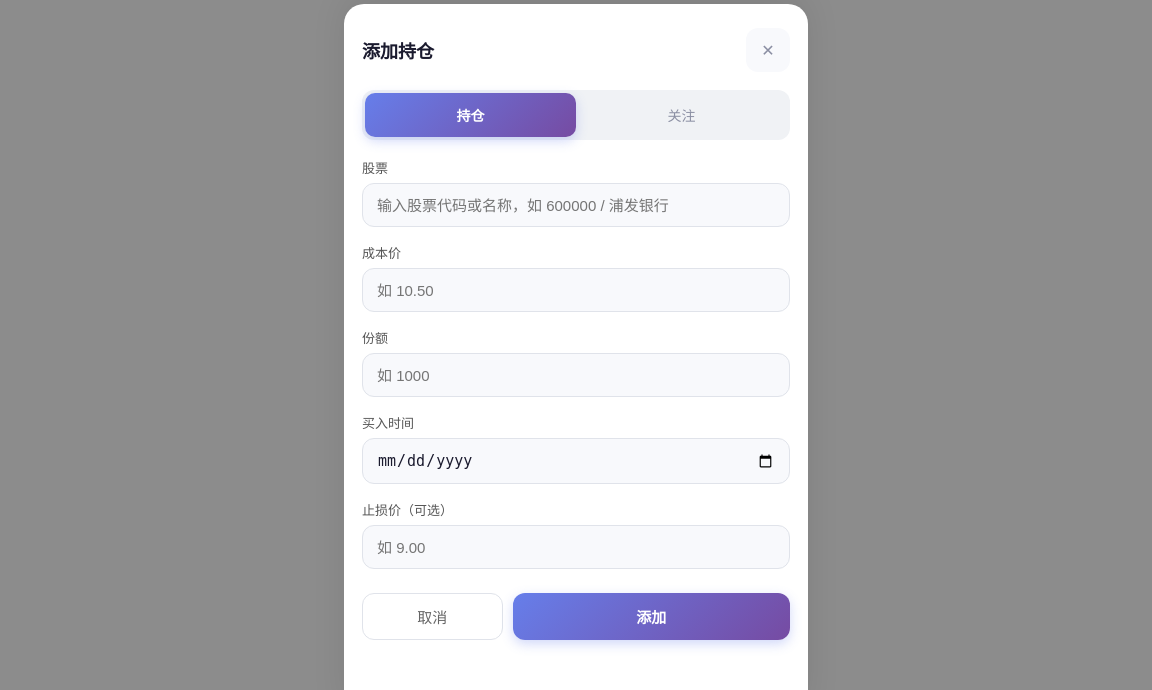
PositionForm - Add Mode › validates cost price must be positive
Type "浦发" into the field labelled "股票" at {"x": 576, "y": 205}, box [362,183,790,227]
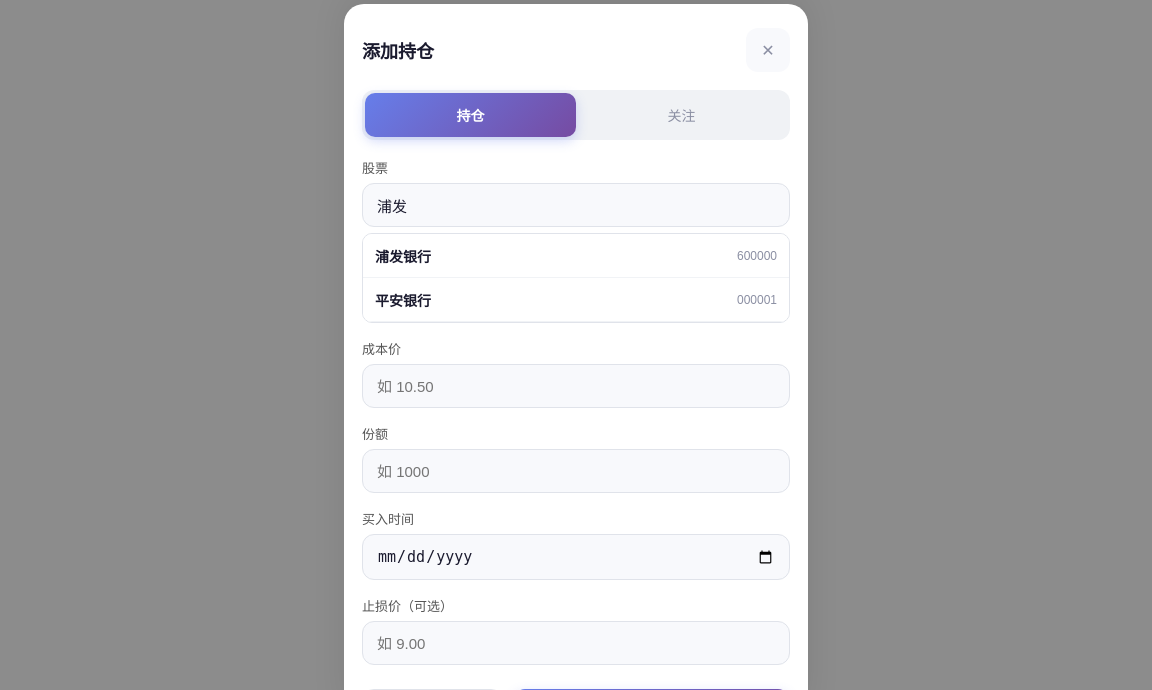
Expected: the text "浦发银行" is shown
Click the text "浦发银行" at {"x": 403, "y": 256}, box [375,246,431,266]
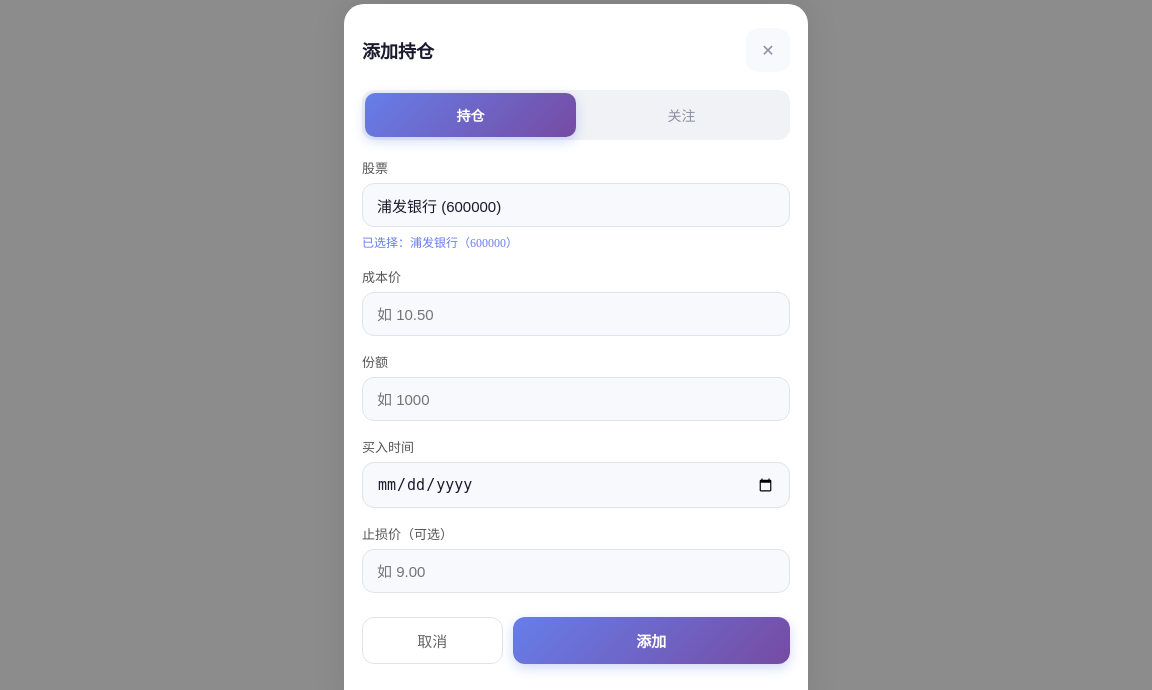
Type "-5" into the field labelled "成本价" at {"x": 576, "y": 314}, box [362,292,790,336]
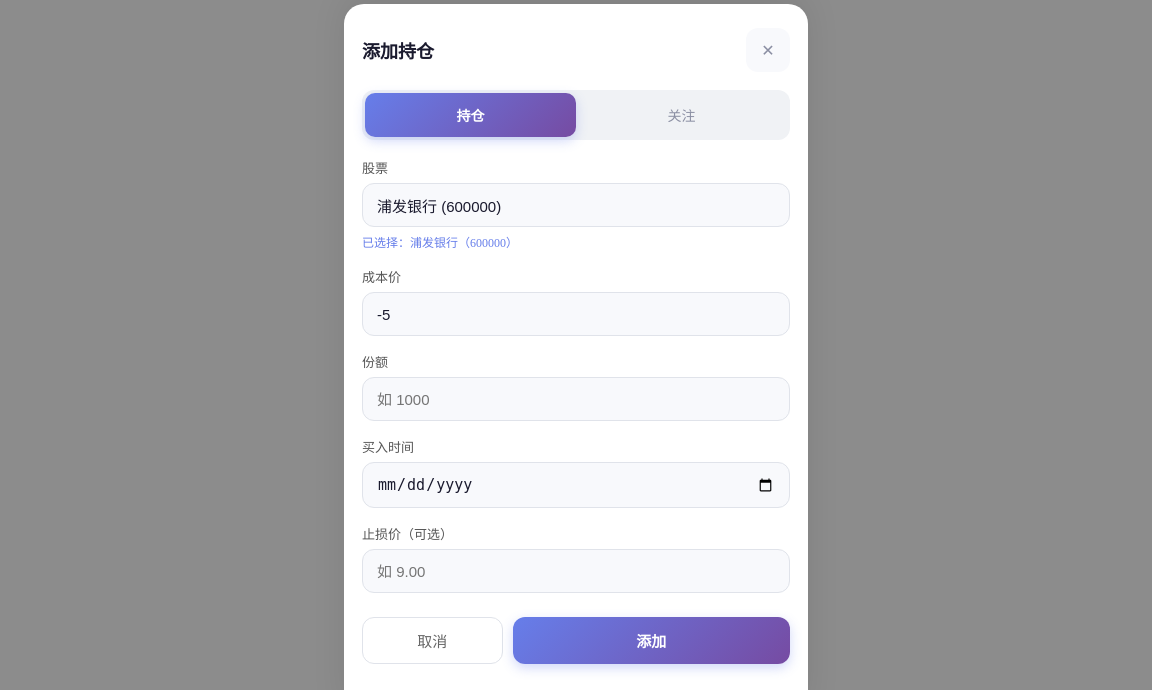
Type "100" into the field labelled "份额" at {"x": 576, "y": 399}, box [362,377,790,421]
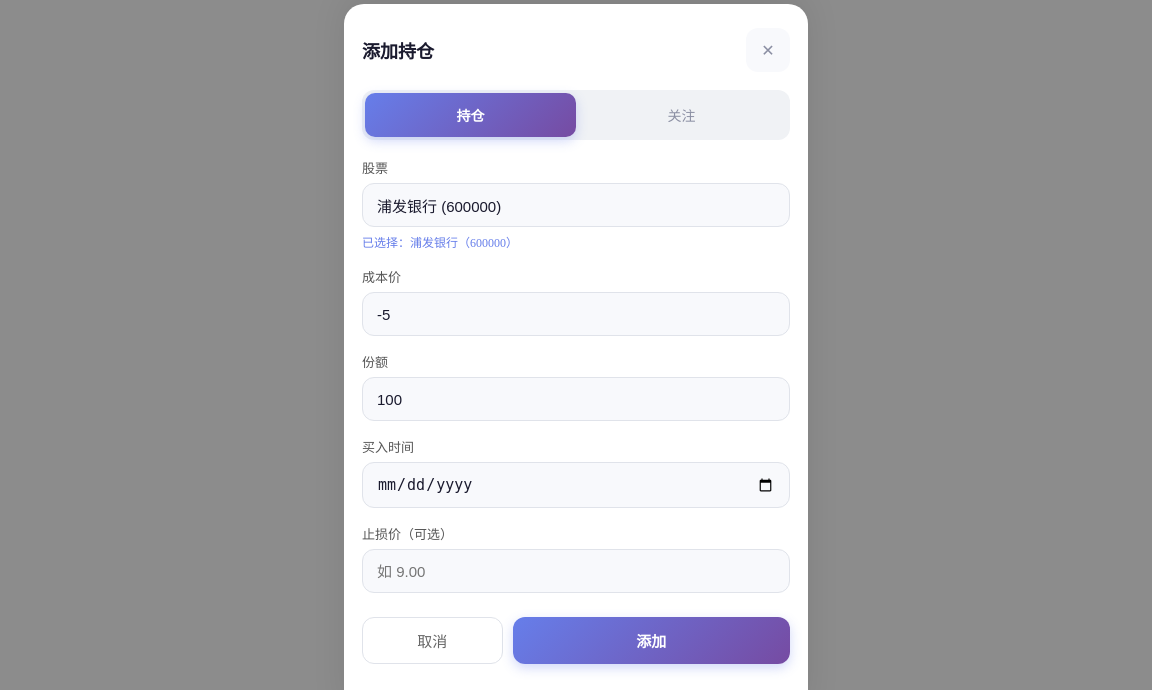
Type "2024-01-01" into the date field labelled "买入时间" at {"x": 576, "y": 485}, box [362,462,790,508]
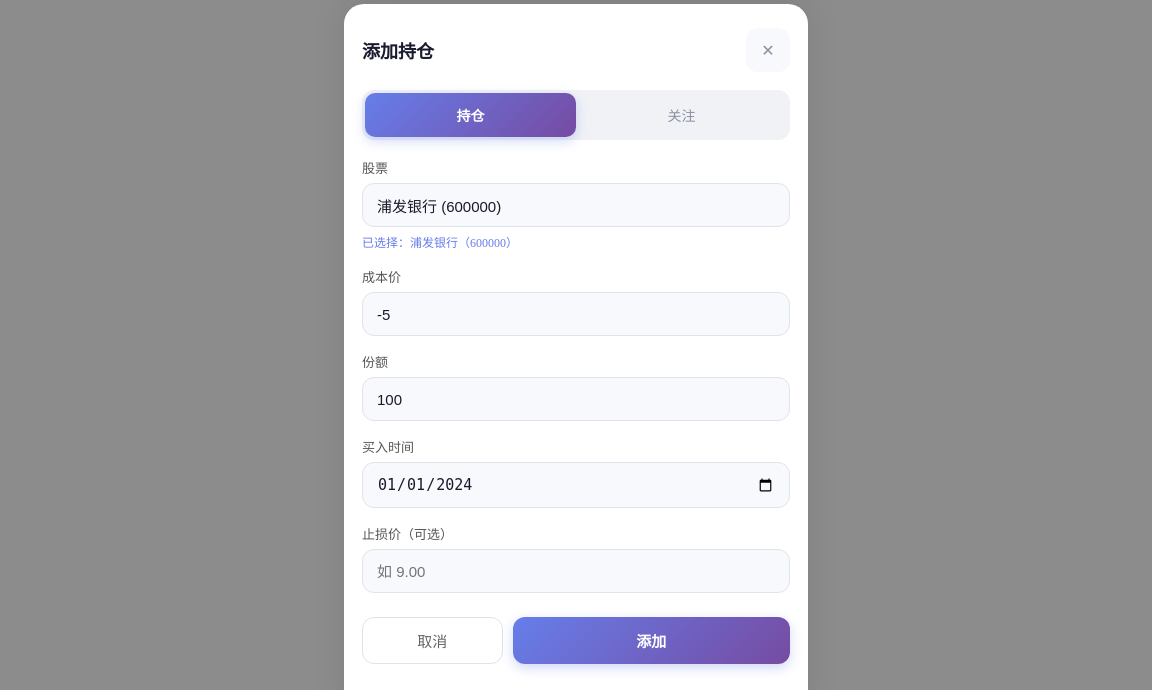
Click the button "添加" at {"x": 651, "y": 640}, box [513,617,790,664]
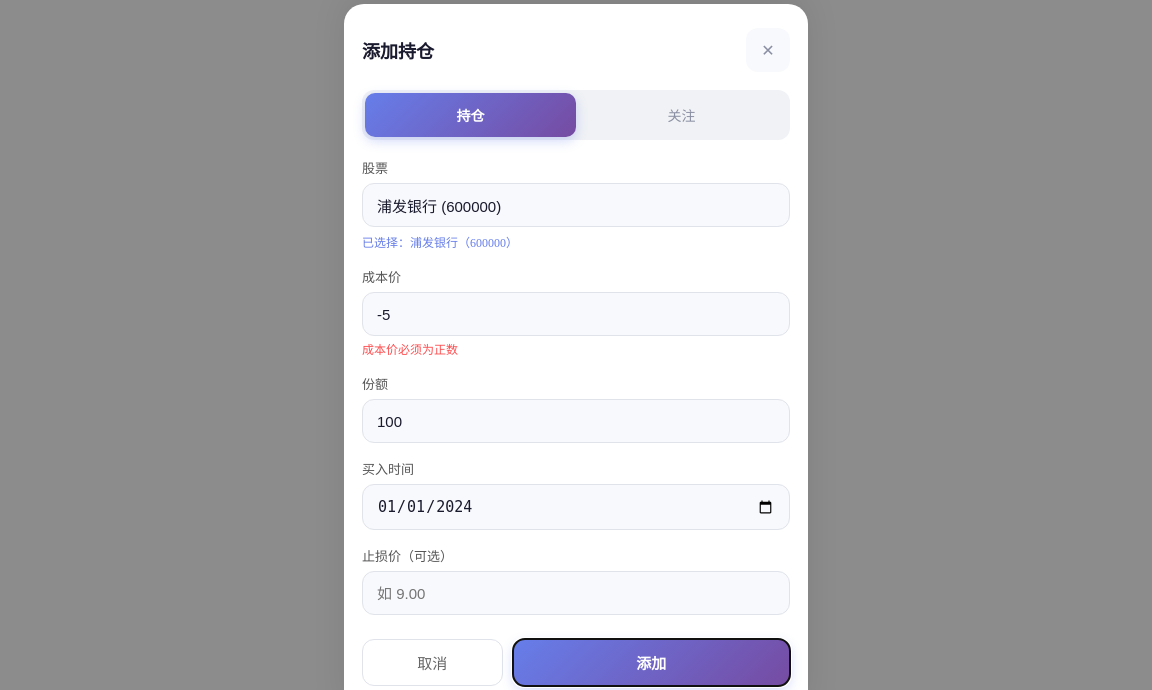
Expected: the text "成本价必须为正数" is shown, [362,343,458,357]
